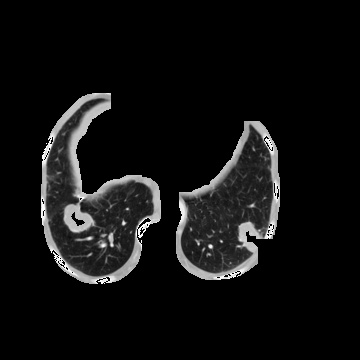PN: (63, 205, 91, 233)
